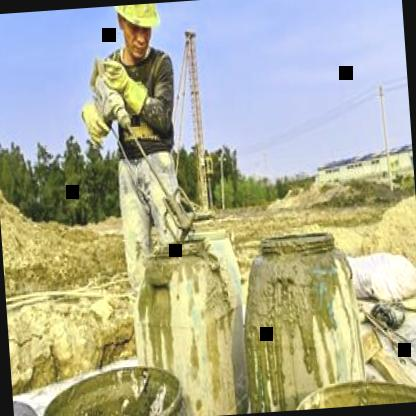helmet: (111, 3, 167, 71)
